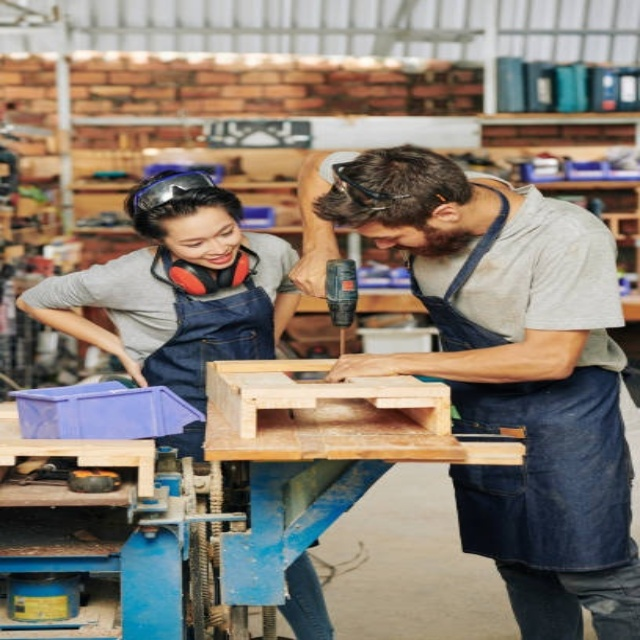Sin_gafas: (171, 219, 237, 249), (355, 226, 402, 249)
Sin_guantes: (283, 250, 348, 301), (318, 351, 404, 383)
Sin_mascara: (375, 237, 439, 257), (196, 250, 238, 268)
